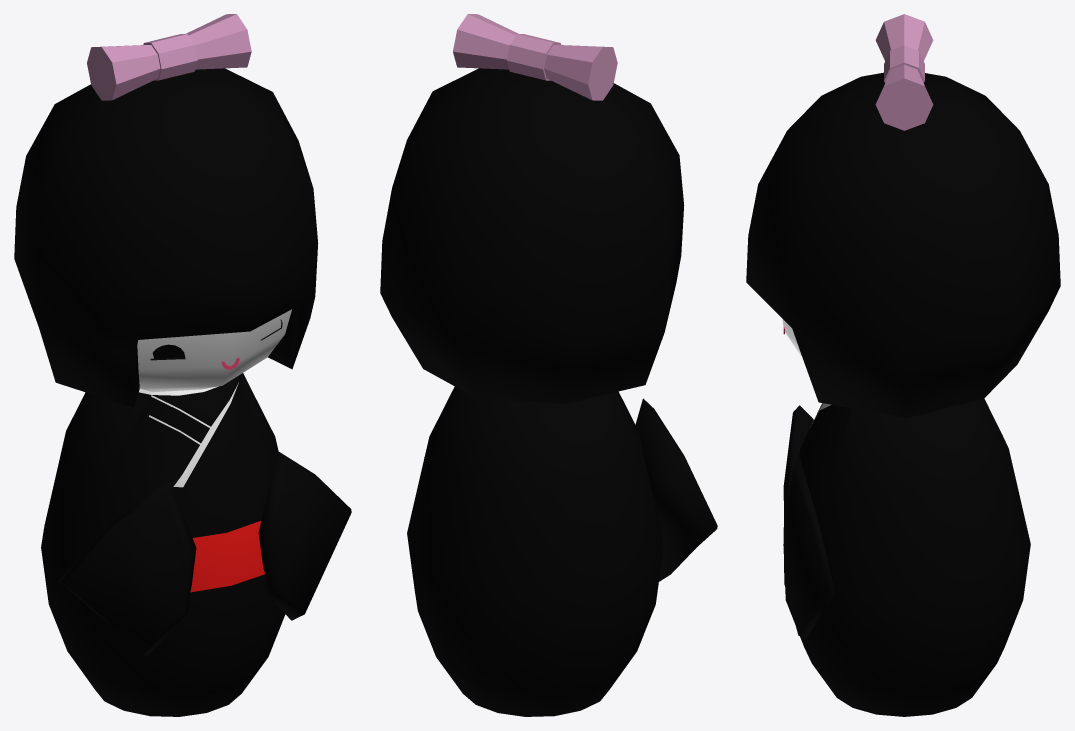
File: kenpo.glb
The picture shows the model from 3 angles, left to right: view 1: azimuth 30°, elevation 25°; view 2: azimuth 150°, elevation 25°; view 3: azimuth 270°, elevation 25°; orthographic projection. The views are drawn at different scales.
Visible parts, largest first — view 1: Object_5, Object_8, Object_7, Object_3, Object_2; view 2: Object_5, Object_8, Object_3; view 3: Object_5, Object_8, Object_3.
Boxes of the visible parts, box(x1,y1,x2,y2) form: Object_5: box(14, 68, 318, 407); Object_8: box(41, 373, 351, 716); Object_7: box(137, 309, 291, 487); Object_3: box(87, 14, 251, 100); Object_2: box(190, 521, 265, 592); Object_5: box(380, 68, 684, 403); Object_8: box(407, 386, 717, 716); Object_3: box(453, 14, 617, 100); Object_5: box(746, 72, 1060, 417); Object_8: box(783, 398, 1030, 716); Object_3: box(875, 14, 933, 130).
Bounding box in the file's own units: 2.56 × 5.47 × 2.44.
